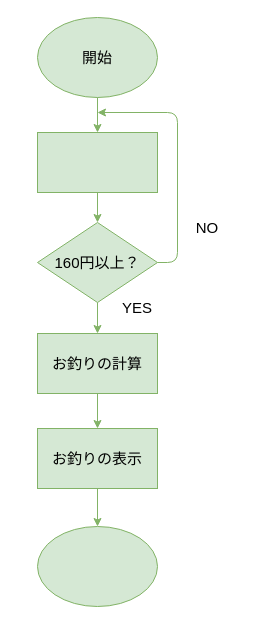
The diagram is 254 pixels wide and 624 high, and some of its shapes have lost their labels. The centre of each missing label's shape, as x and y in pixels:
お金を投入してください。: pixel 97 162
終了: pixel 97 566
